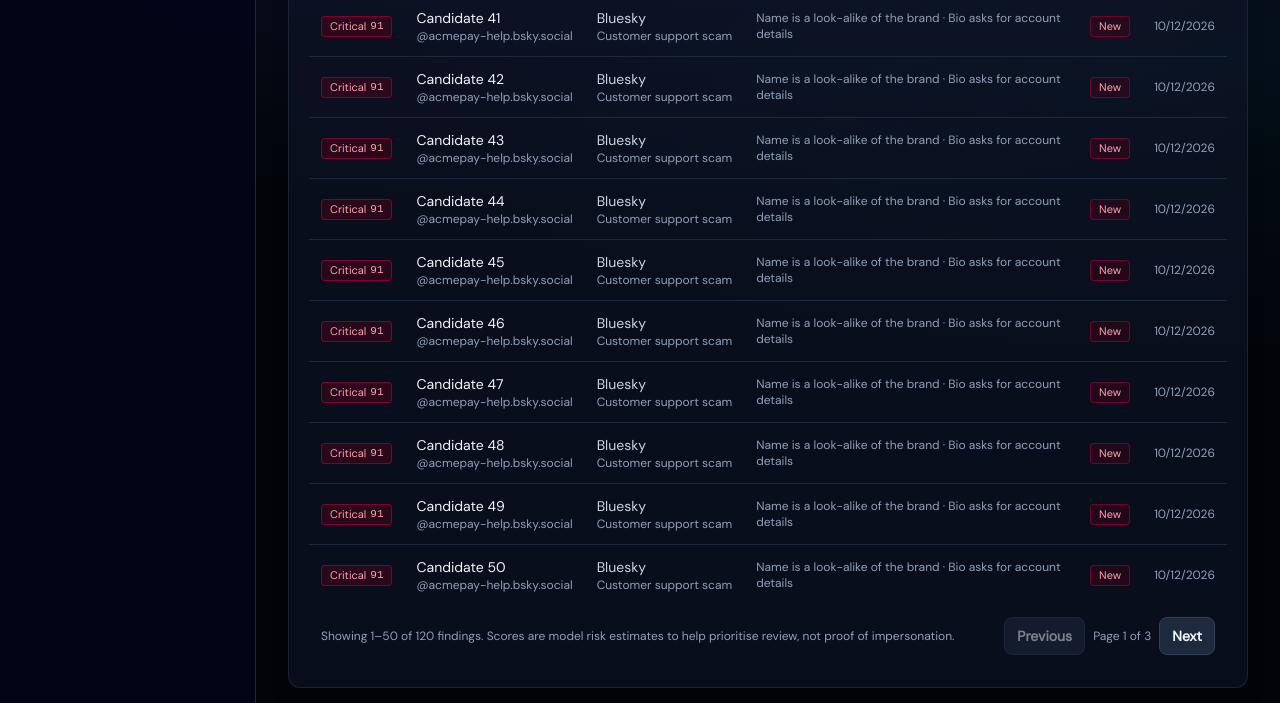
Test: dashboard › pages through findings 50 at a time and resets to the first page when a filter changes
This screenshot has width=1280, height=703.
(page scrolled)
Expected: the text "Showing 1–50 of 120" is shown, [321,628,954,644]
Expected: the button "Previous" is disabled, [1004,617,1085,655]
Click the button "Next".
click(1187, 636)  # box [1159,617,1215,655]
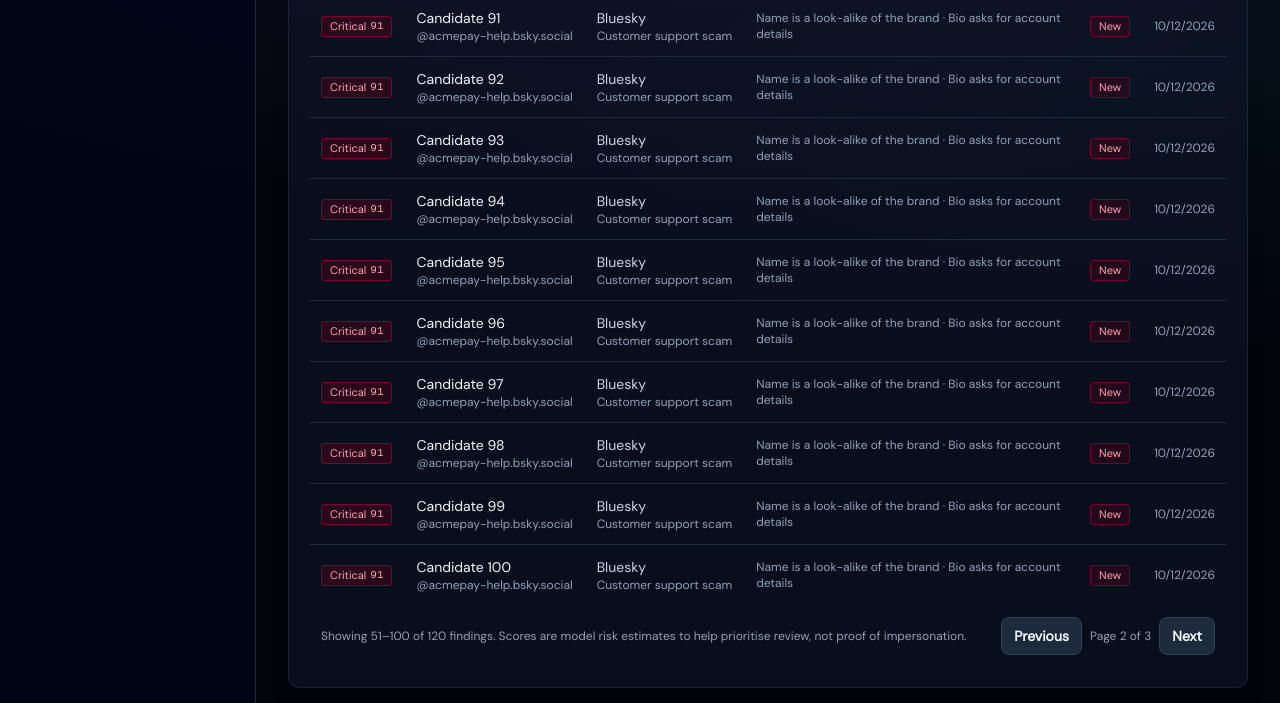
Expected: the text "Showing 51–100 of 120" is shown, [321,628,966,644]
Click the button "Next".
click(1187, 636)  # box [1159,617,1215,655]
(page scrolled)
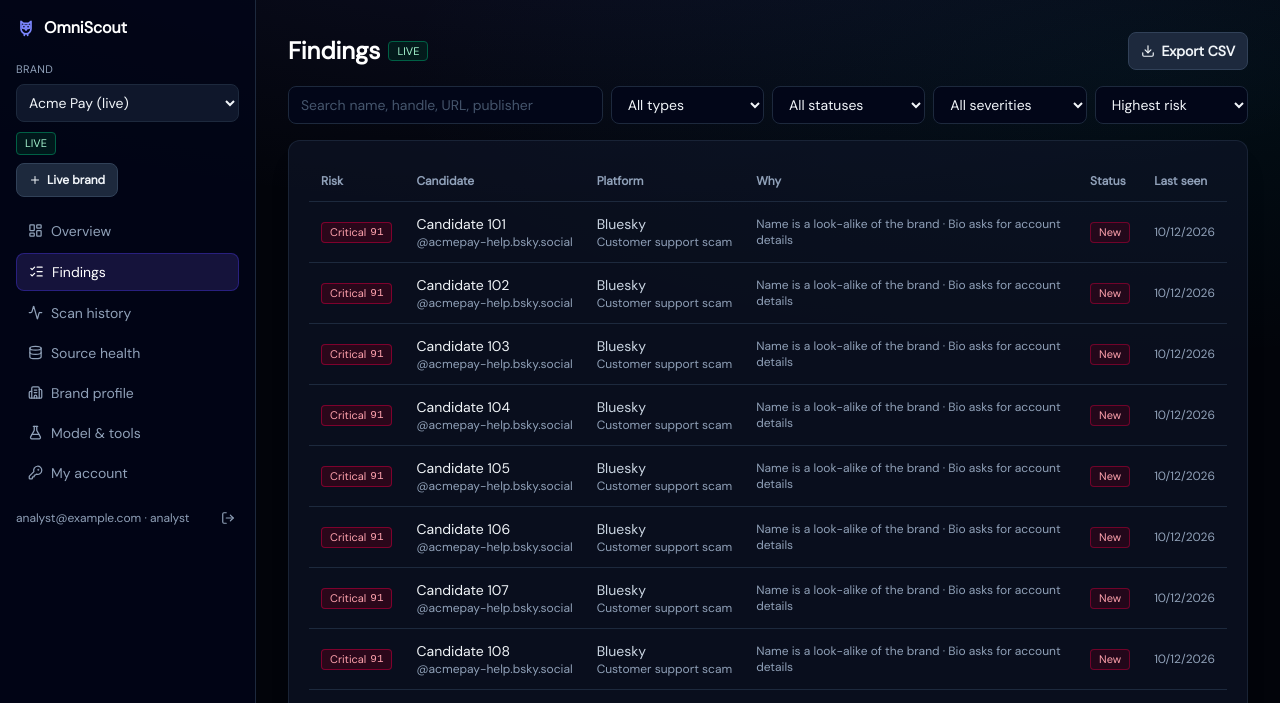
Select "High" in the dropdown named "Severity" at [1010, 105], box [933,86,1087,124]
(page scrolled)
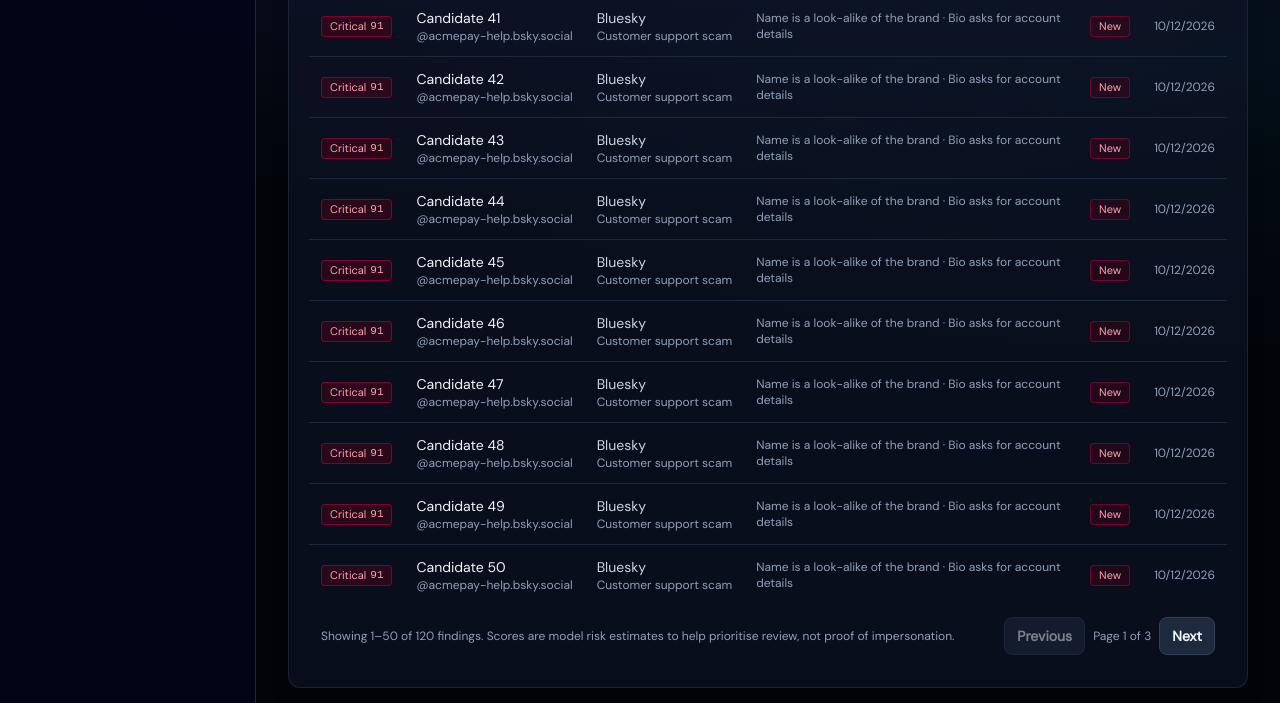
Expected: the text "Showing 1–50 of 120" is shown, [321,628,954,644]
